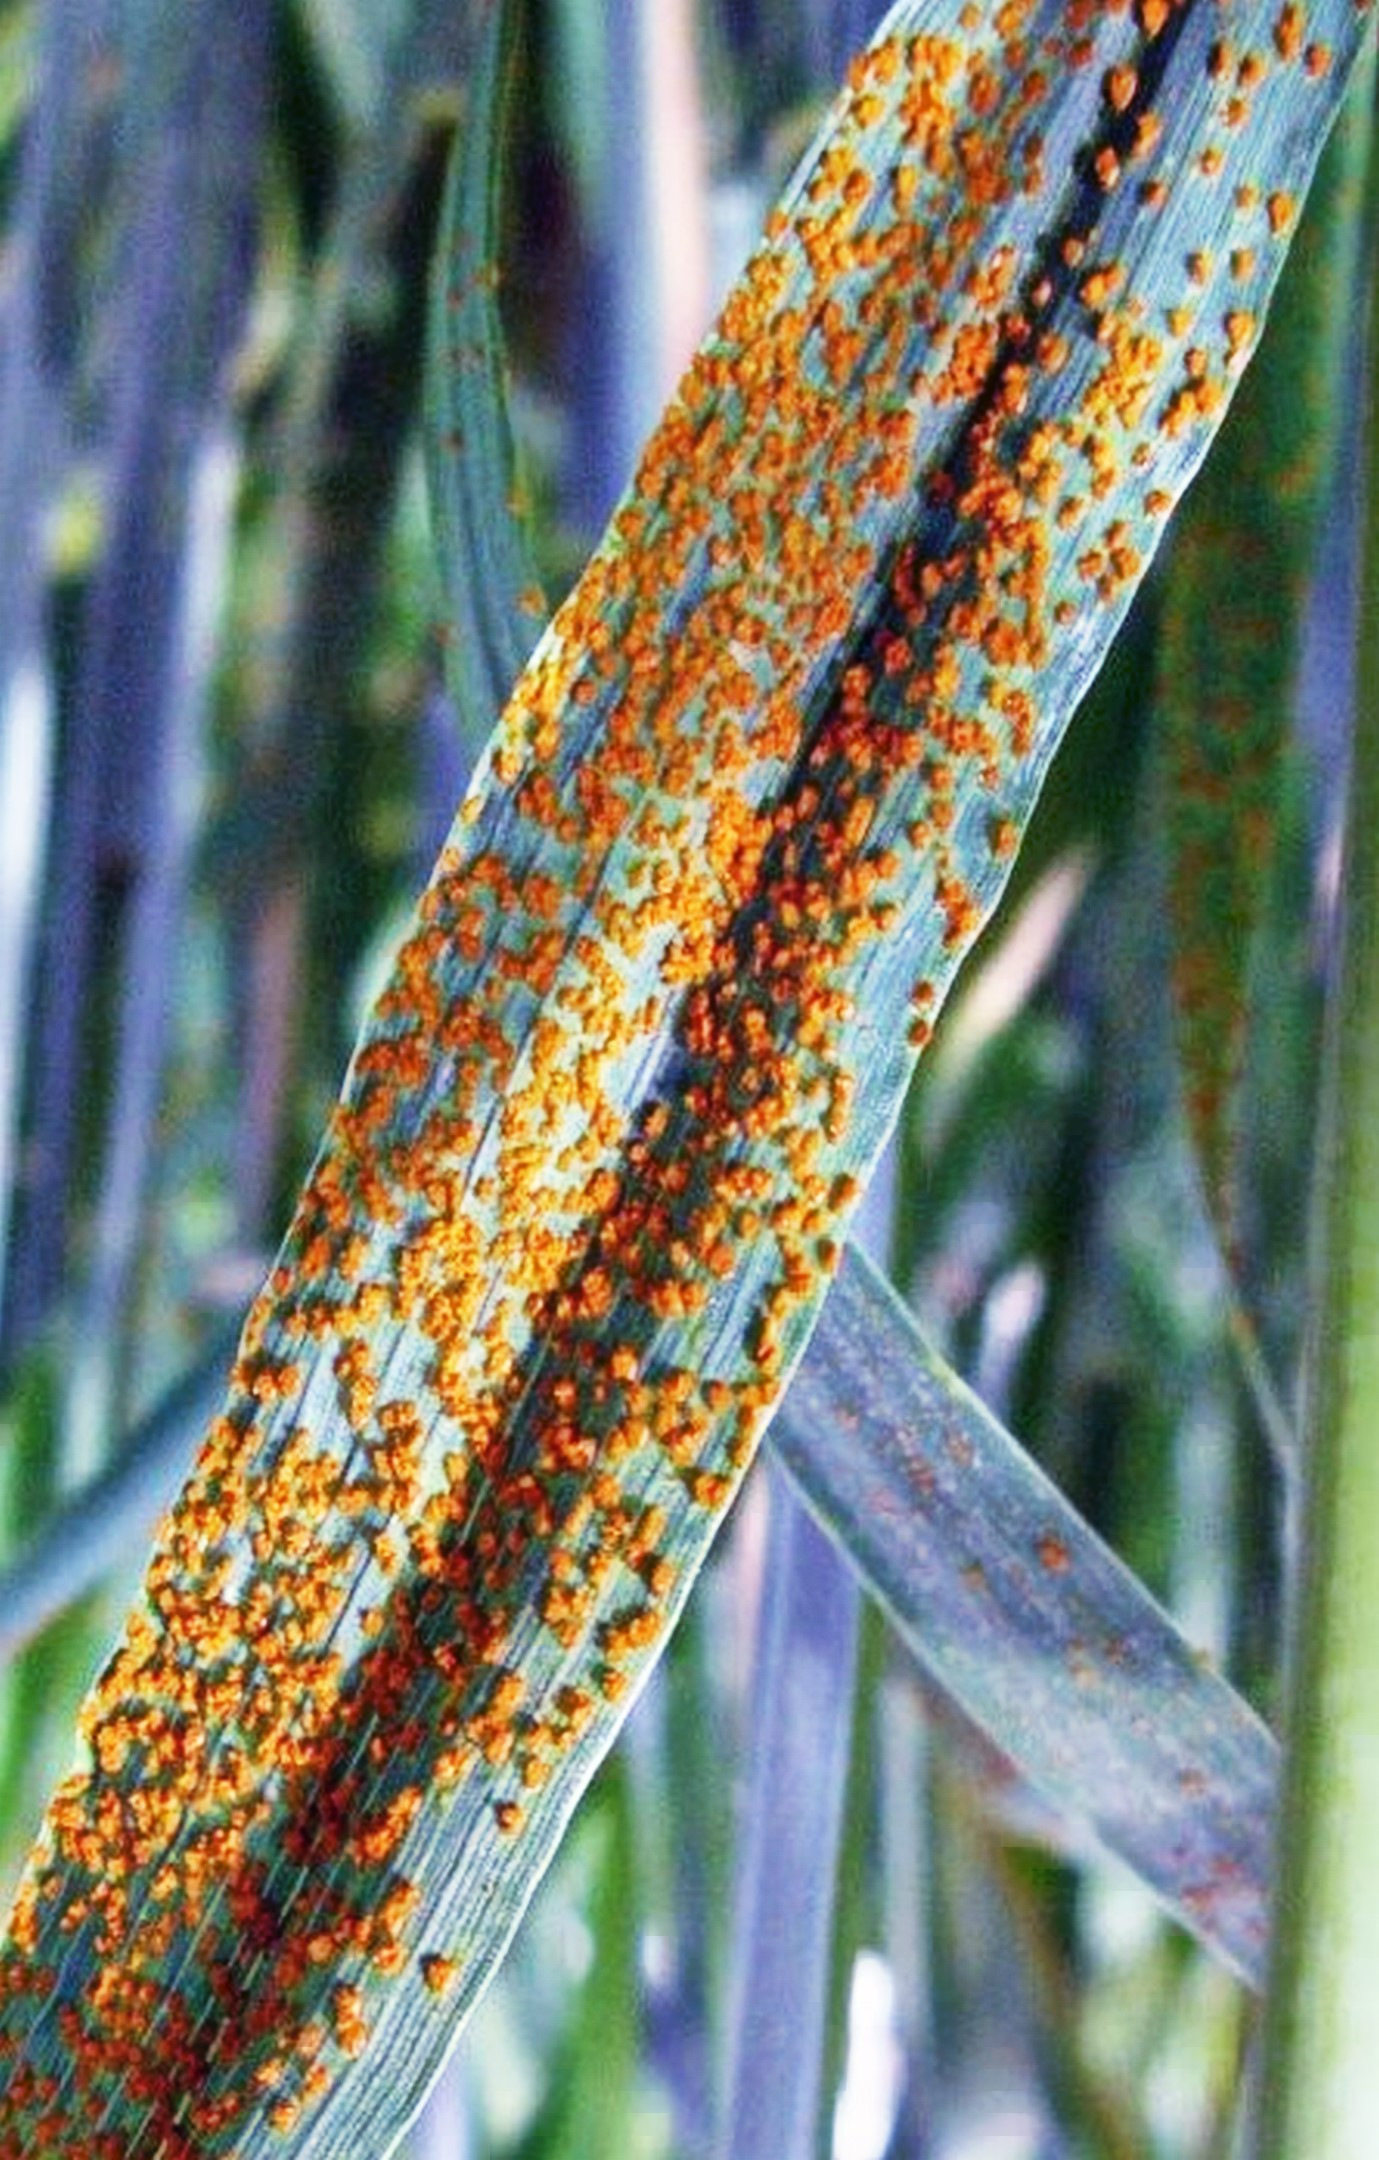Leaf Rust: (83, 115, 1299, 2040)
